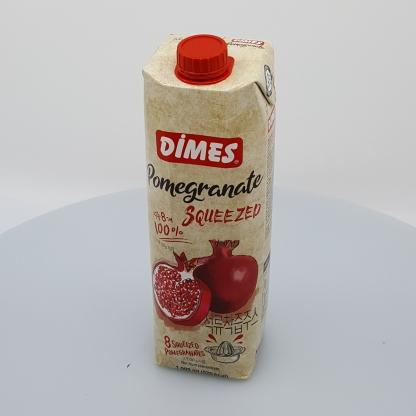DIMES------1000ML: (142, 33, 276, 380)
